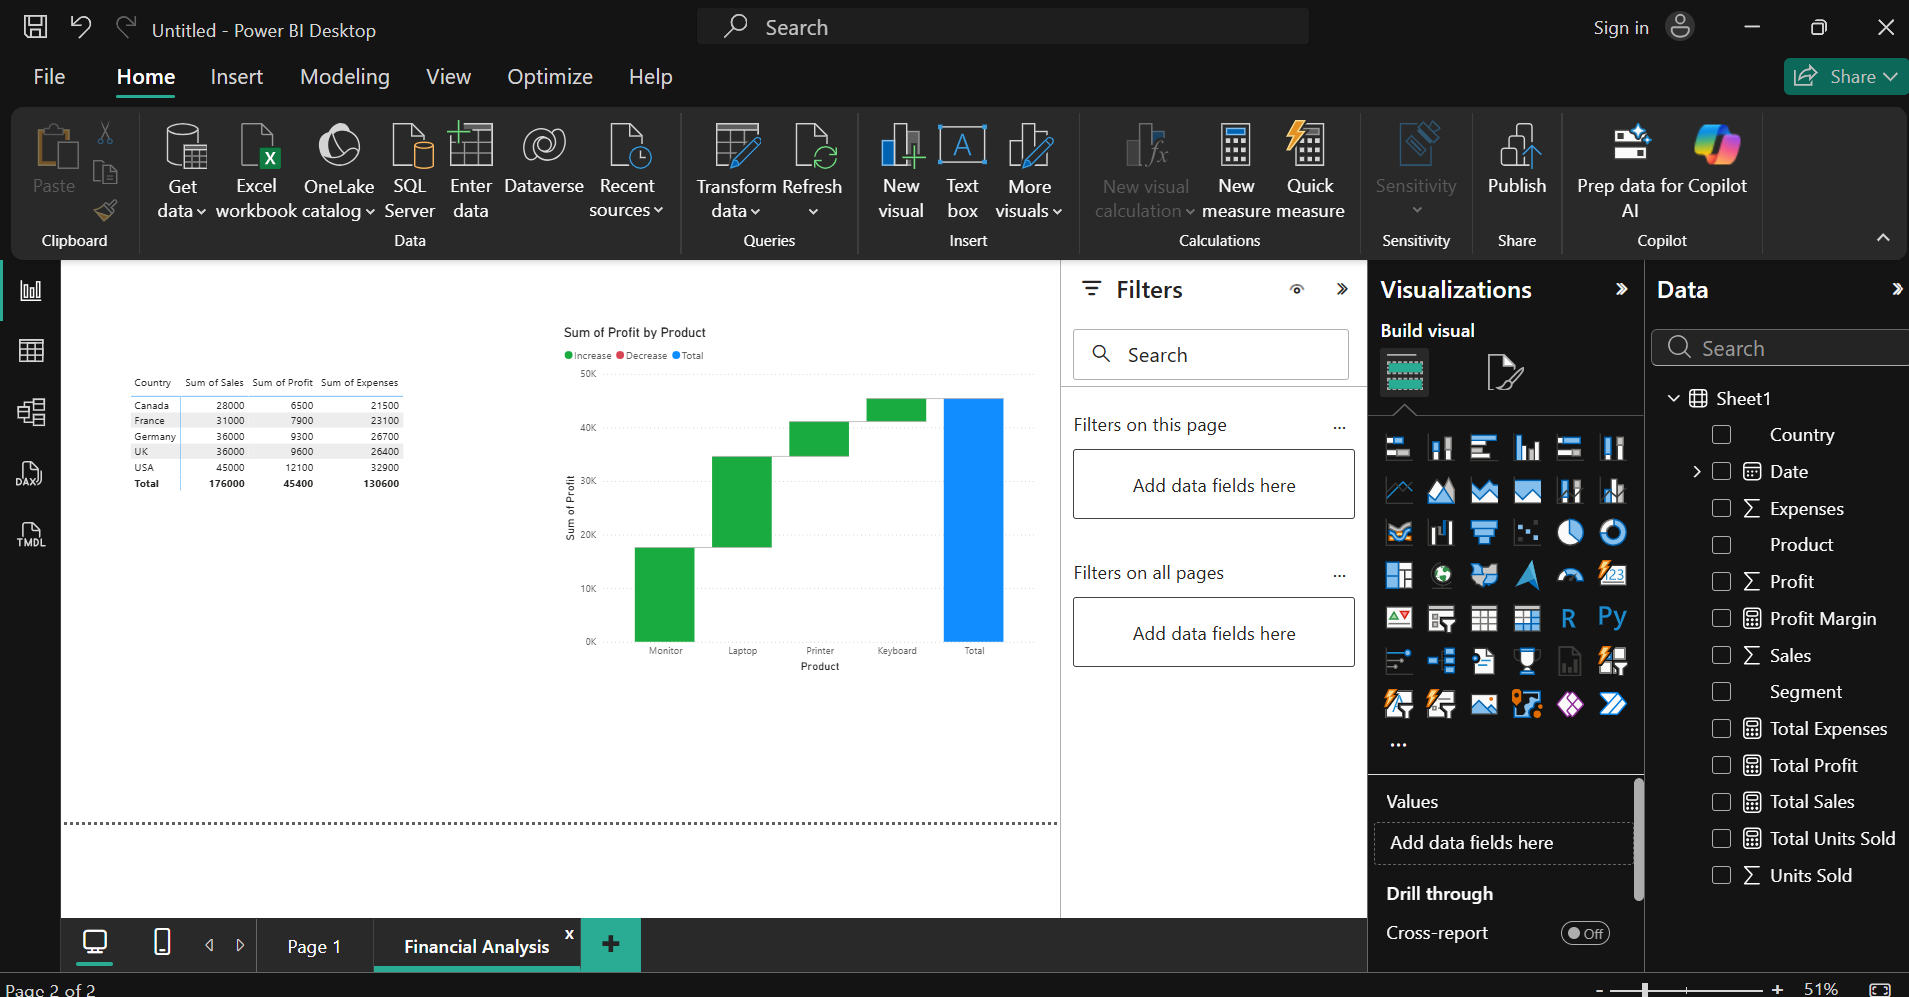

What the dashboard file says about the page in this screenshot:
{"tool":"powerbi","page":{"name":"Financial Analysis","canvas":[1280,720],"ordinal":1},"visuals":[{"type":"pivotTable","fields":{"Rows":["Sheet1.Country"],"Values":["Sum(Sheet1.Sales)","Sum(Sheet1.Profit)","Sum(Sheet1.Expenses)"]},"box":[84.3,141.1,411.7,235.2],"z":0},{"type":"waterfallChart","fields":{"Category":["Sheet1.Product"],"Y":["Sum(Sheet1.Profit)"]},"box":[639.1,82.3,615.5,450.9],"z":1}]}

Visuals, with their boxes on the page's 1280x720 design canvas (x1, y1, x2, y2). These are canvas units, not pixel positions in the 1909x997 screenshot, which may show the page scaled, cropped or inside an application window:
pivotTable - Sheet1.Country x Sum(Sheet1.Sales): (left=84, top=141, right=496, bottom=376)
waterfallChart - Sheet1.Product x Sum(Sheet1.Profit): (left=639, top=82, right=1255, bottom=533)
